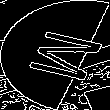M_E: (9, 25, 101, 85)
